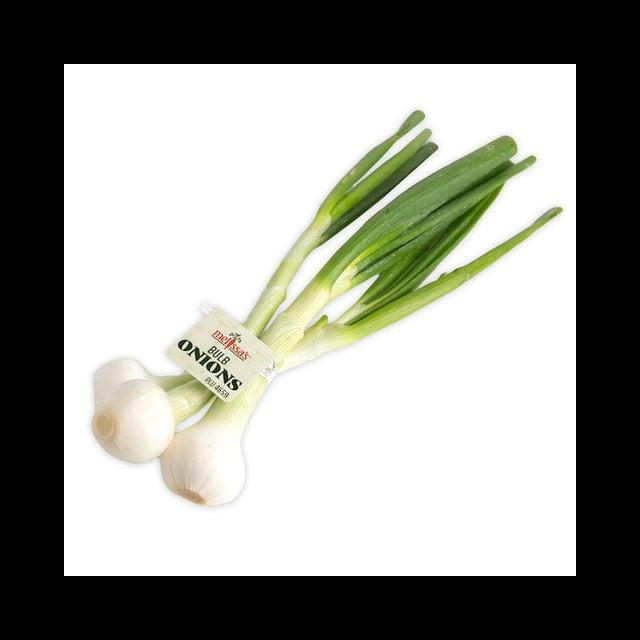green_onion: (161, 138, 561, 504), (243, 112, 436, 336), (92, 361, 213, 462)
